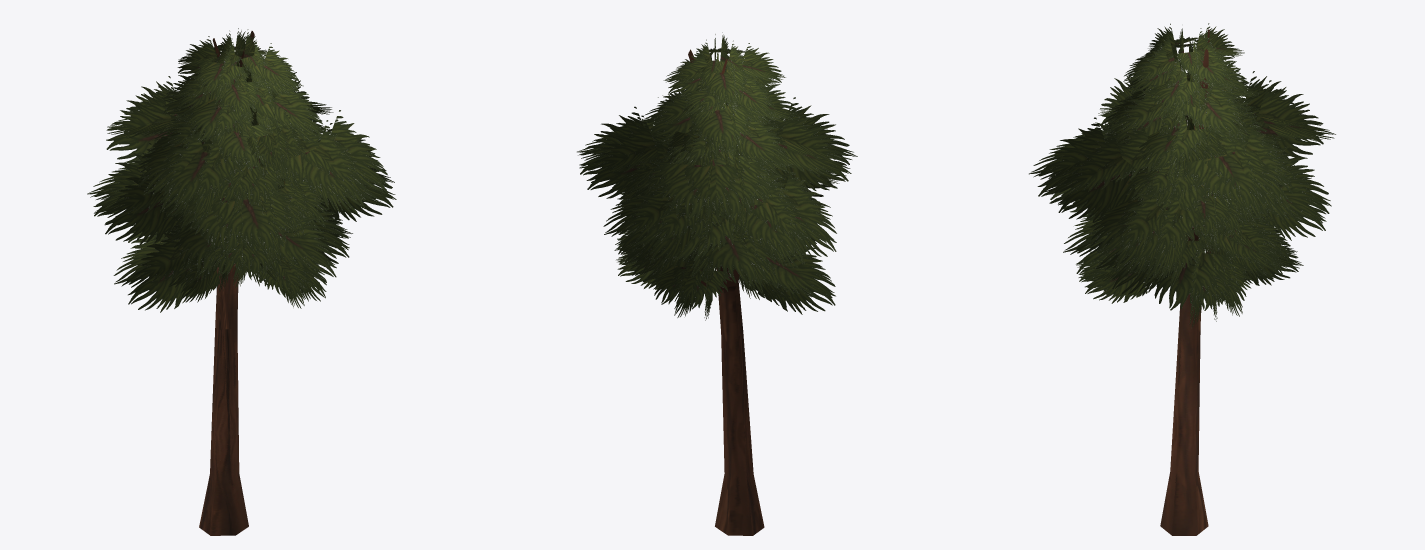
Rendered from rBTreeN.fbx.
3 views of the same model, side by side, from view 1: azimuth 30°, elevation 25°; view 2: azimuth 150°, elevation 25°; view 3: azimuth 270°, elevation 25° (orthographic). The views are drawn at different scales.
Visible parts, largest first — view 1: Cylinder; view 2: Cylinder; view 3: Cylinder.
Boxes of the visible parts, x1,y1,x2,y2 form: Cylinder: (87, 28, 396, 535); Cylinder: (577, 32, 857, 535); Cylinder: (1029, 23, 1335, 535).
Bounding box in the file's own units: 1204 × 1454 × 1166.
